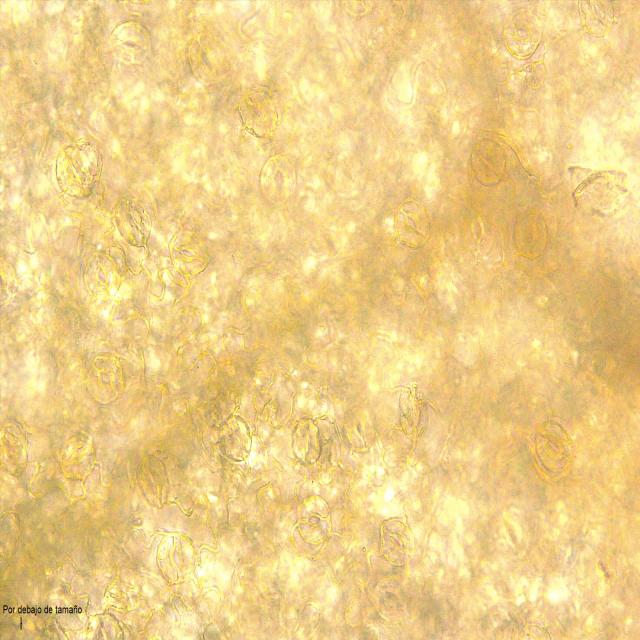Stomata: (492, 503, 533, 562), (237, 86, 280, 138), (55, 146, 97, 198), (155, 532, 196, 584), (188, 33, 228, 86), (260, 150, 297, 206), (114, 196, 153, 248), (109, 20, 152, 66), (534, 420, 572, 472), (86, 354, 125, 404), (168, 230, 210, 276), (83, 251, 122, 300), (136, 454, 170, 508), (505, 9, 543, 57), (394, 199, 430, 249), (59, 434, 97, 480), (514, 208, 548, 259), (380, 520, 416, 567), (471, 138, 506, 186), (0, 422, 29, 479), (218, 414, 252, 461), (298, 495, 330, 544), (578, 0, 616, 37), (292, 418, 321, 464), (346, 406, 375, 450)
